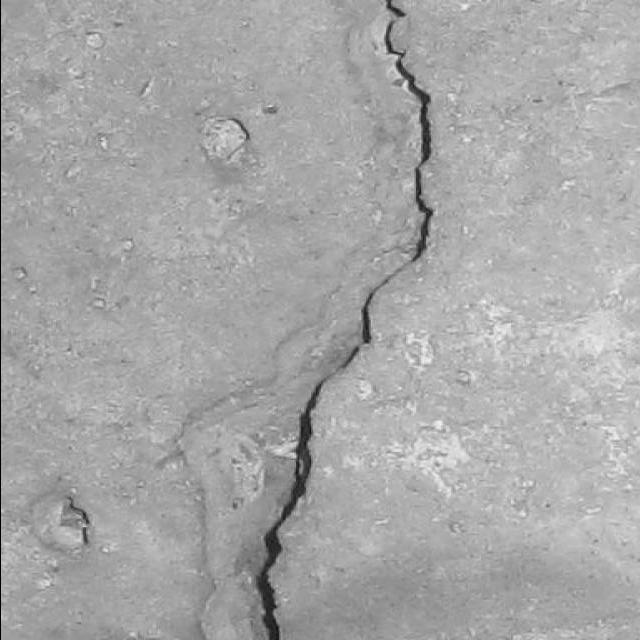SurfaceCrack: (205, 0, 472, 640)
